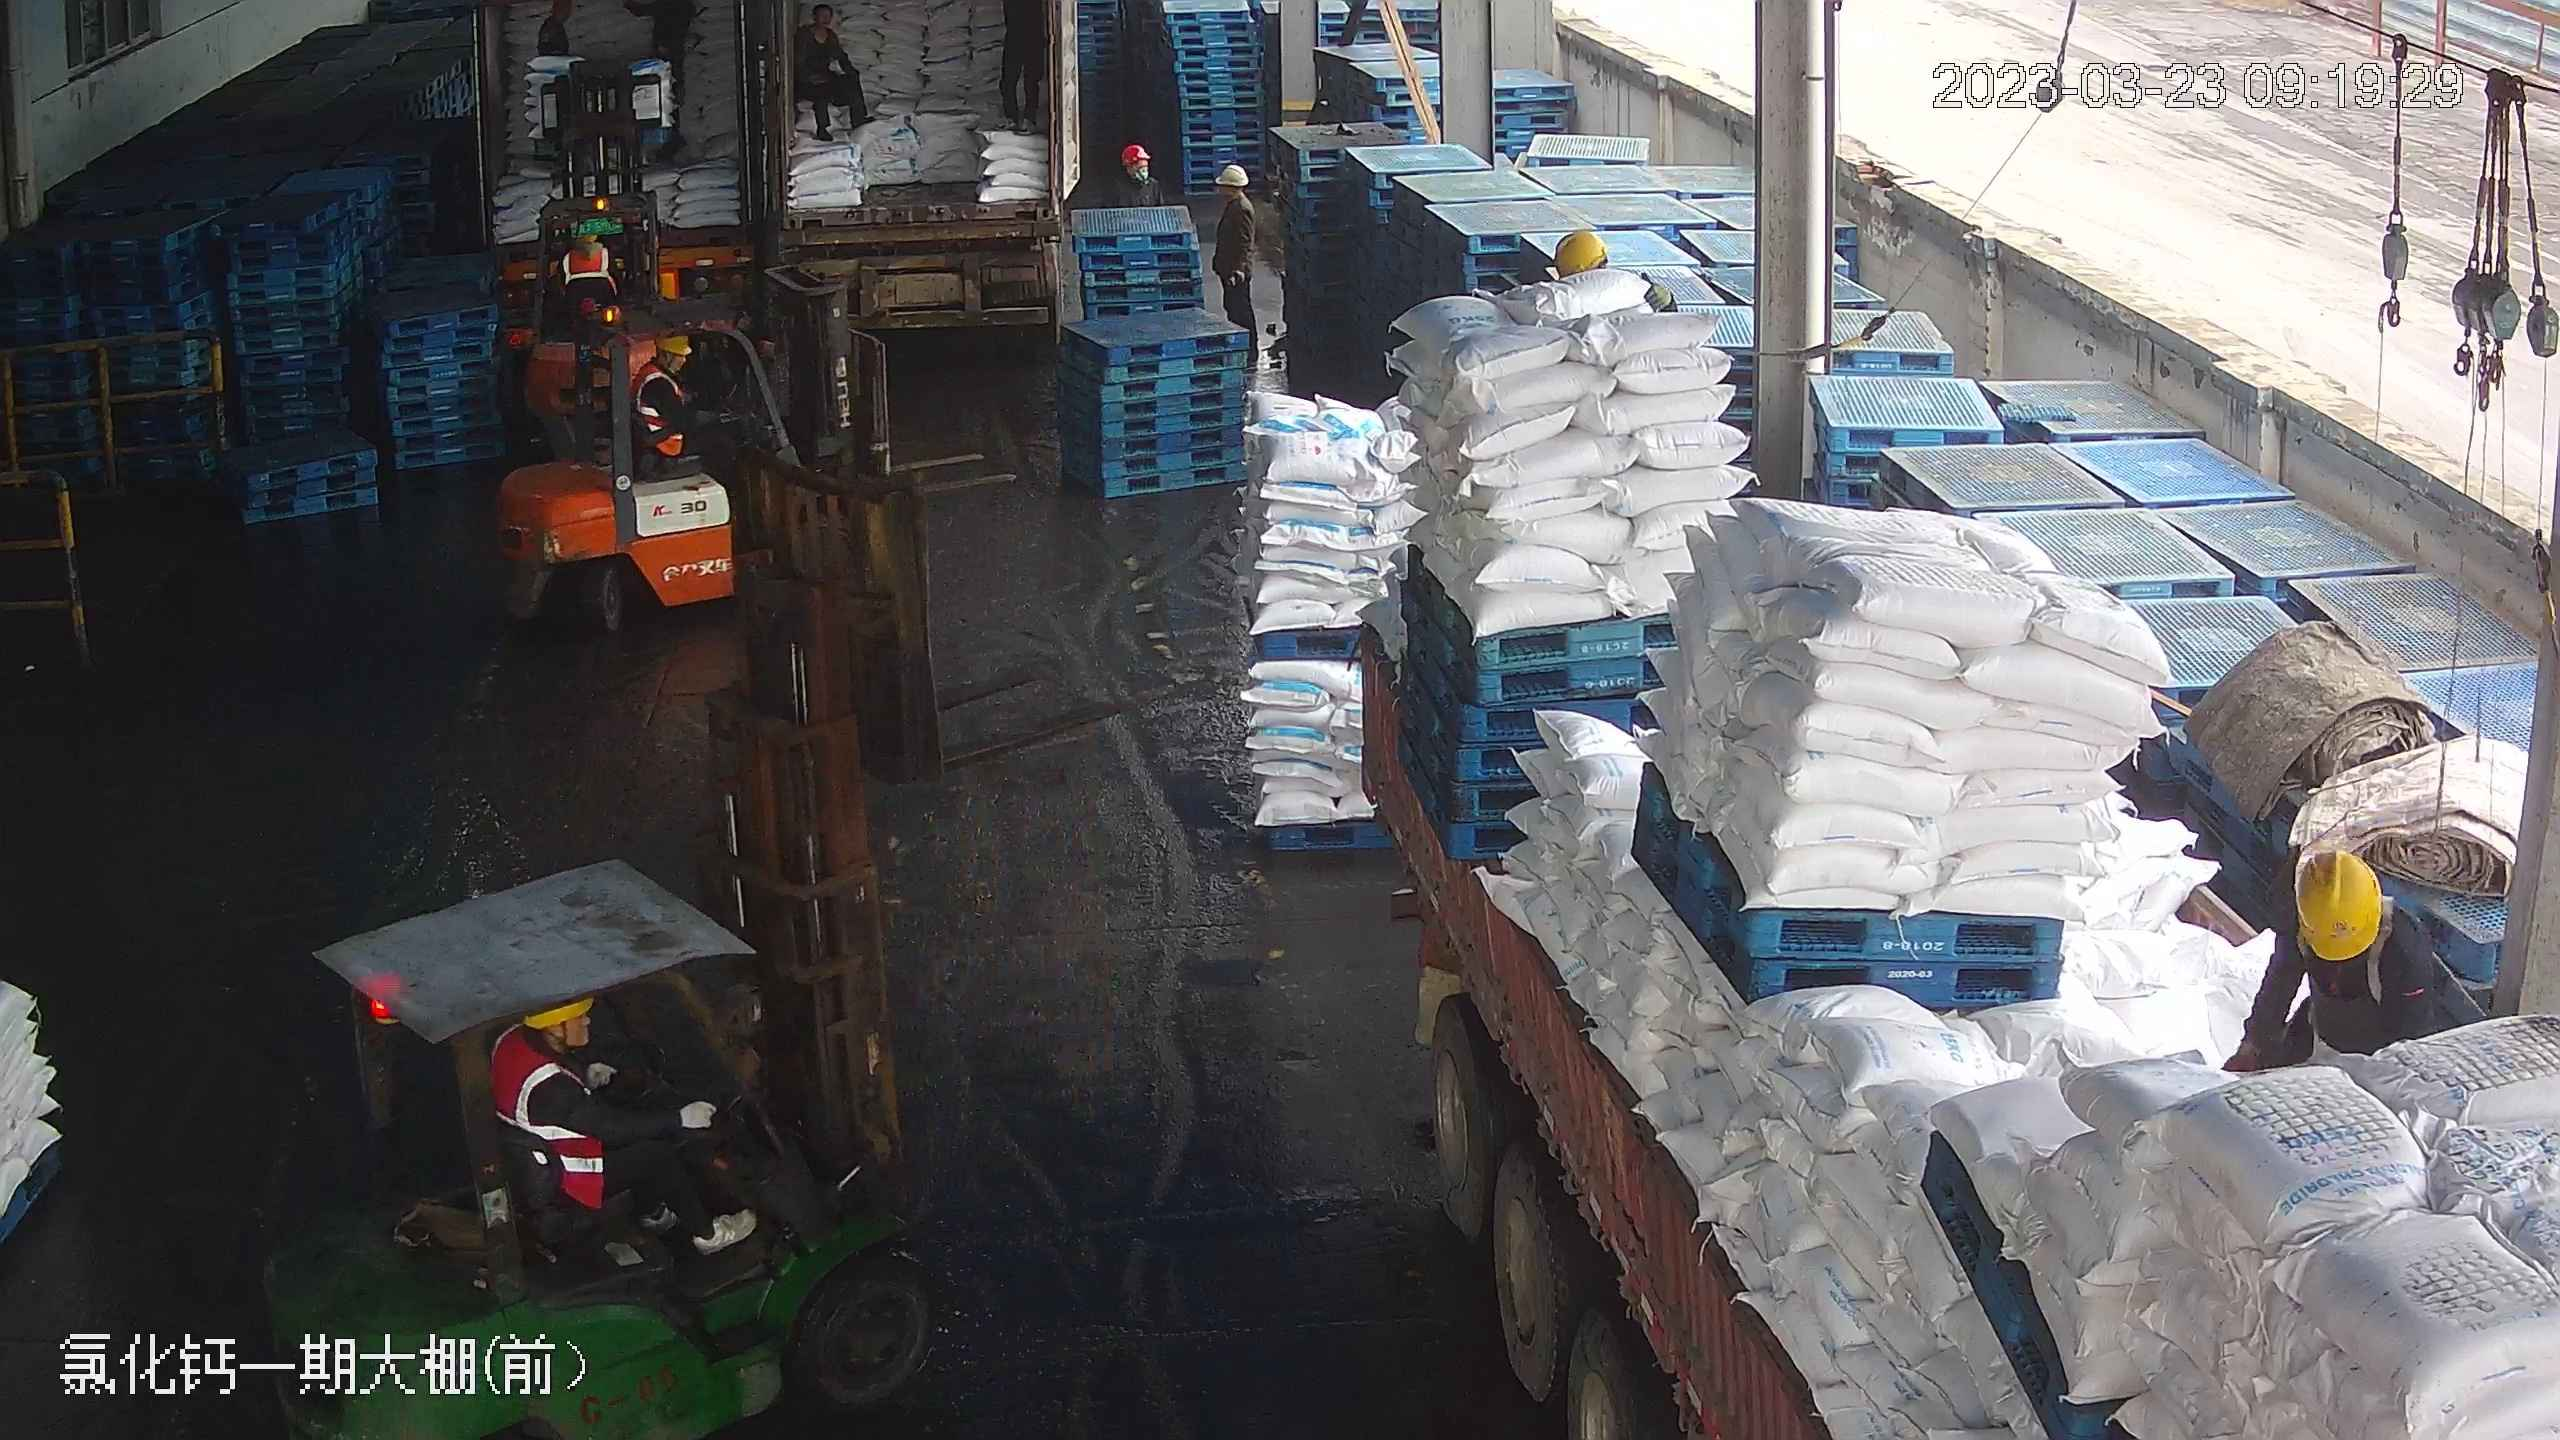belt: (2311, 923, 2400, 1006)
head: (2256, 840, 2446, 1009), (1206, 158, 1265, 248), (635, 334, 700, 403), (1102, 139, 1163, 201), (800, 2, 841, 58), (535, 1, 574, 57)
helmet: (2293, 843, 2386, 961), (1551, 223, 1609, 272), (656, 332, 692, 357), (1214, 164, 1246, 190), (1119, 139, 1149, 165)
people: (488, 1004, 744, 1257), (634, 334, 750, 498), (1212, 160, 1271, 364), (797, 1, 875, 145)
truck: (1259, 207, 2508, 1440), (559, 19, 804, 328)
